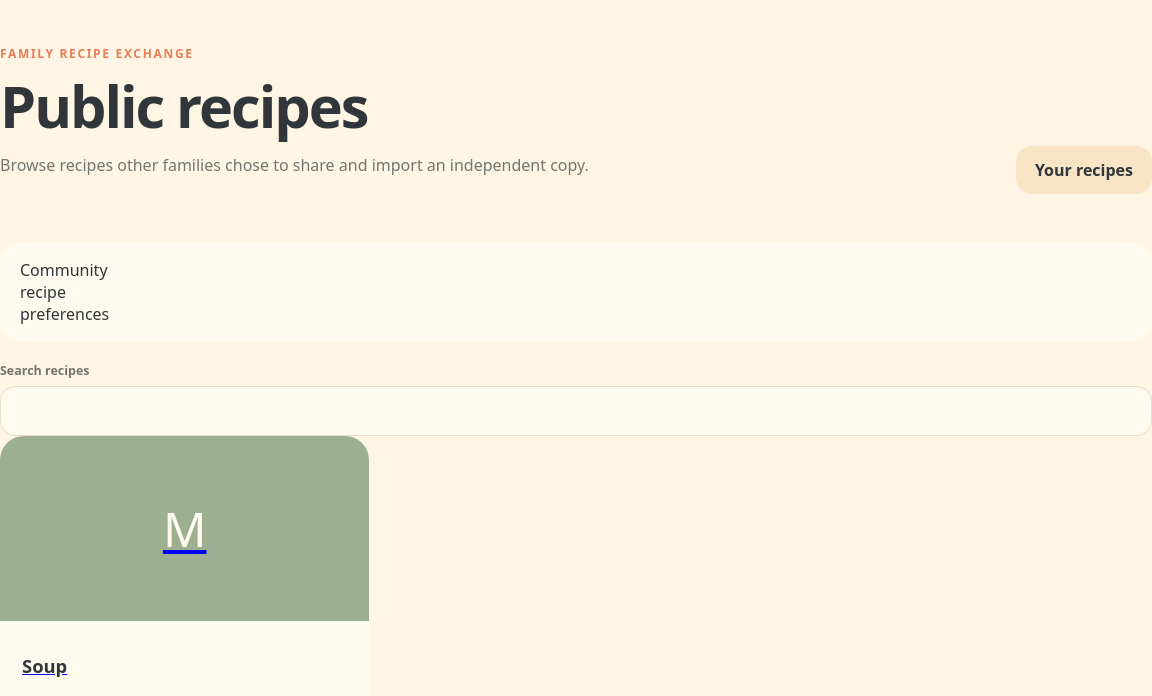
Scenario: saves sharing and reversibly hides a family
expect the heading "Soup" is shown: met, box x1=22 y1=653 x2=67 y2=678
Click the heading "Community recipe preferences" at (65, 292), box x1=20 y1=259 x2=109 y2=325
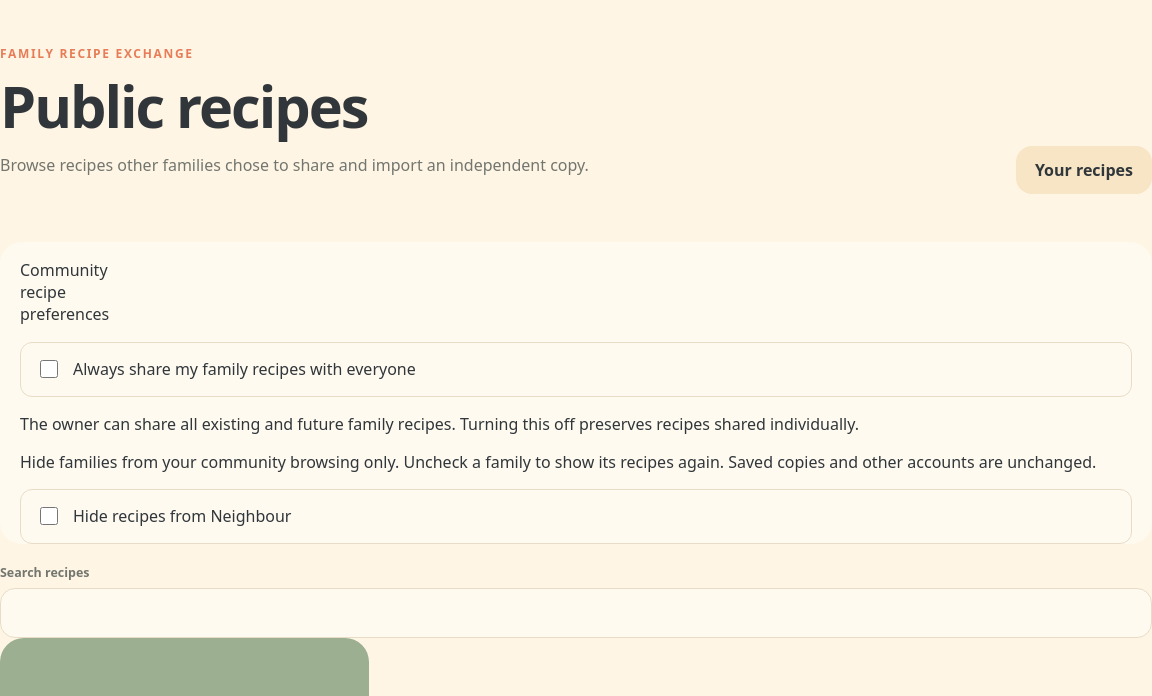
Click the checkbox labelled "Always share my family recipes with everyone" at (49, 369), box x1=40 y1=360 x2=58 y2=378
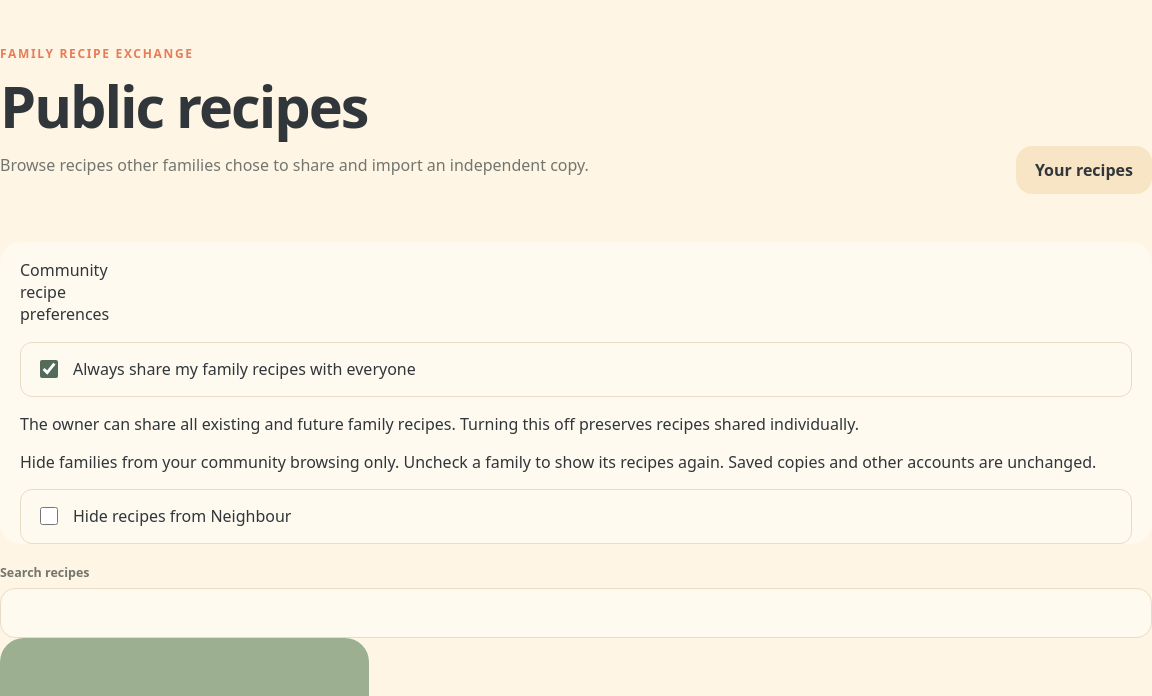
expect the checkbox labelled "Always share my family recipes with everyone" is checked: met, box x1=40 y1=360 x2=58 y2=378
Click the checkbox labelled "Hide recipes from Neighbour" at (49, 516), box x1=40 y1=507 x2=58 y2=525
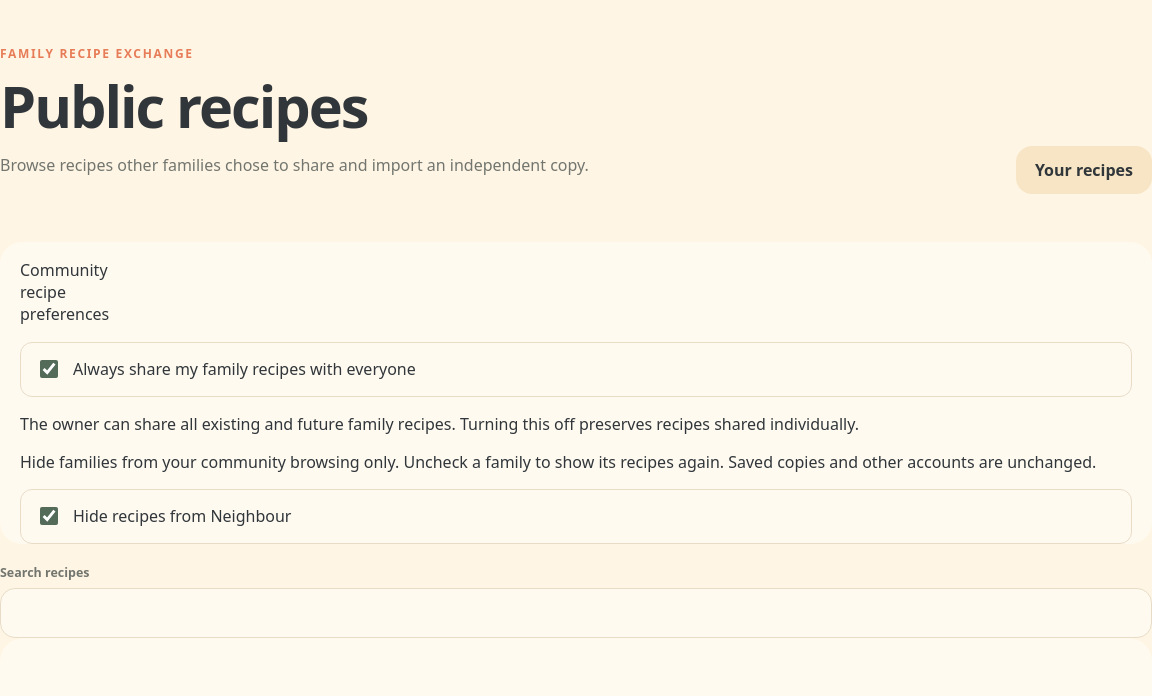
Click the checkbox labelled "Hide recipes from Neighbour" at (49, 516), box x1=40 y1=507 x2=58 y2=525
(page scrolled)
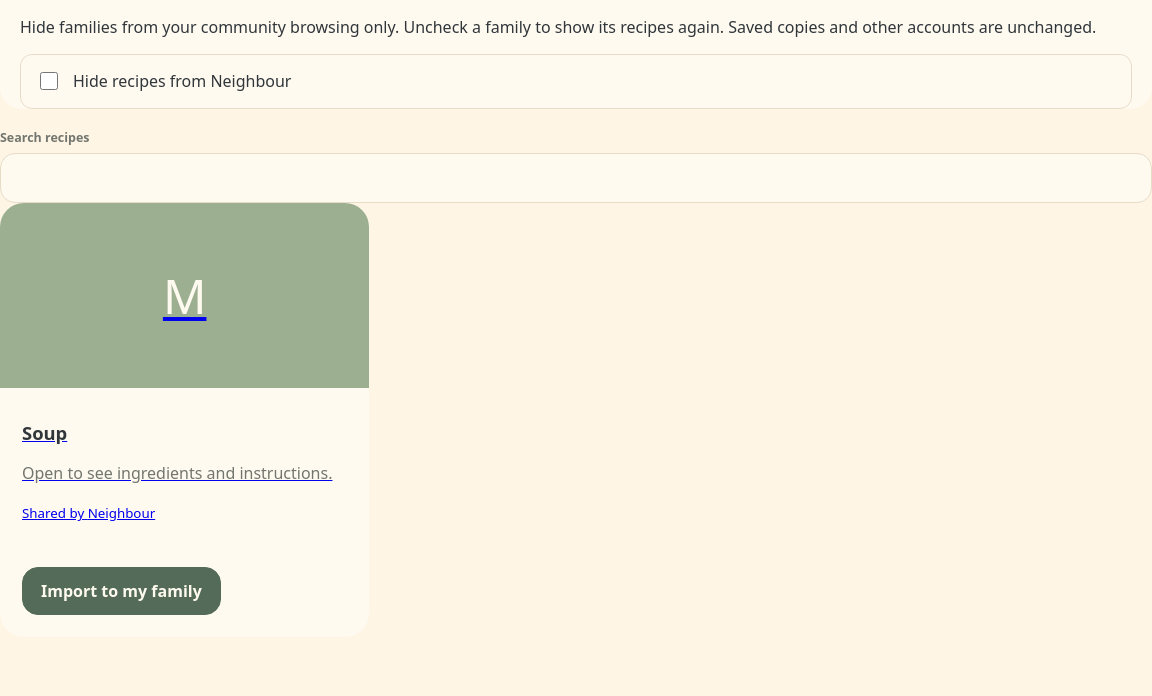
expect the heading "Soup" is shown: met, box x1=22 y1=420 x2=67 y2=445
